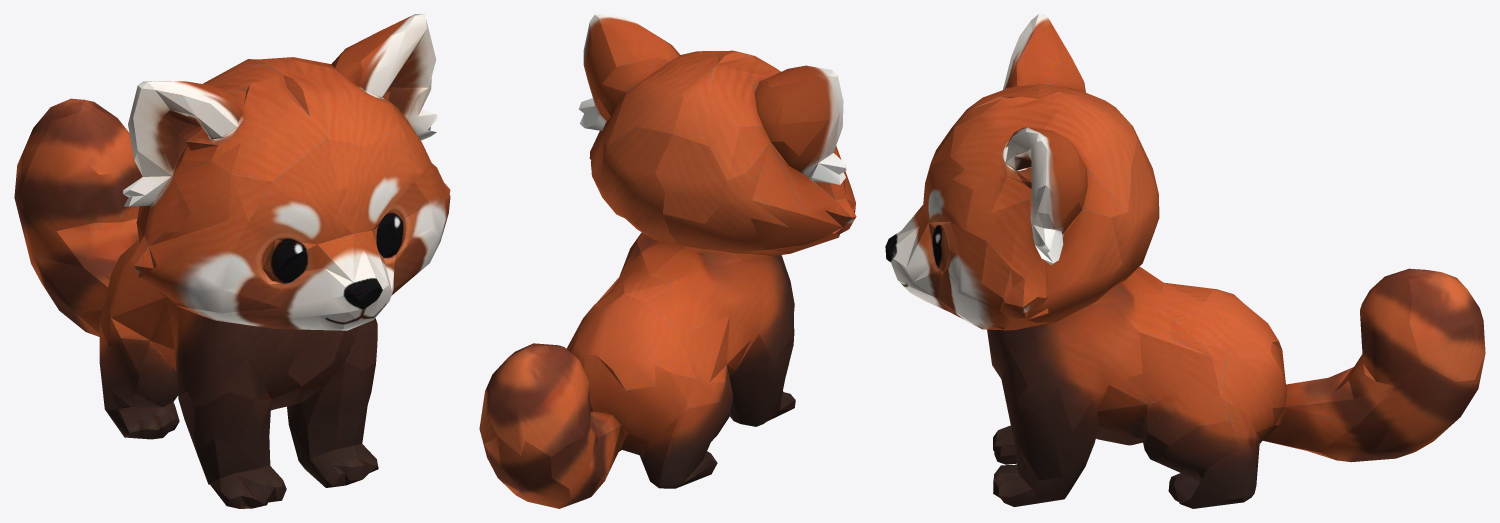
Rendered from toy-redpanda.glb.
3 views of the same model, side by side, from view 1: azimuth 30°, elevation 25°; view 2: azimuth 150°, elevation 25°; view 3: azimuth 270°, elevation 25° (orthographic). The views are drawn at different scales.
Parts seen in each view (by area): view 1: Prize_Batch0; view 2: Prize_Batch0; view 3: Prize_Batch0.
Part boxes in pixels (box(x1,y1,x2,y2)): Prize_Batch0: box(14, 14, 450, 508); Prize_Batch0: box(479, 14, 856, 508); Prize_Batch0: box(885, 14, 1485, 508).
Bounding box in the file's own units: 0.0179 × 0.0235 × 0.032.
Materials: 1 (1 with a texture image).
